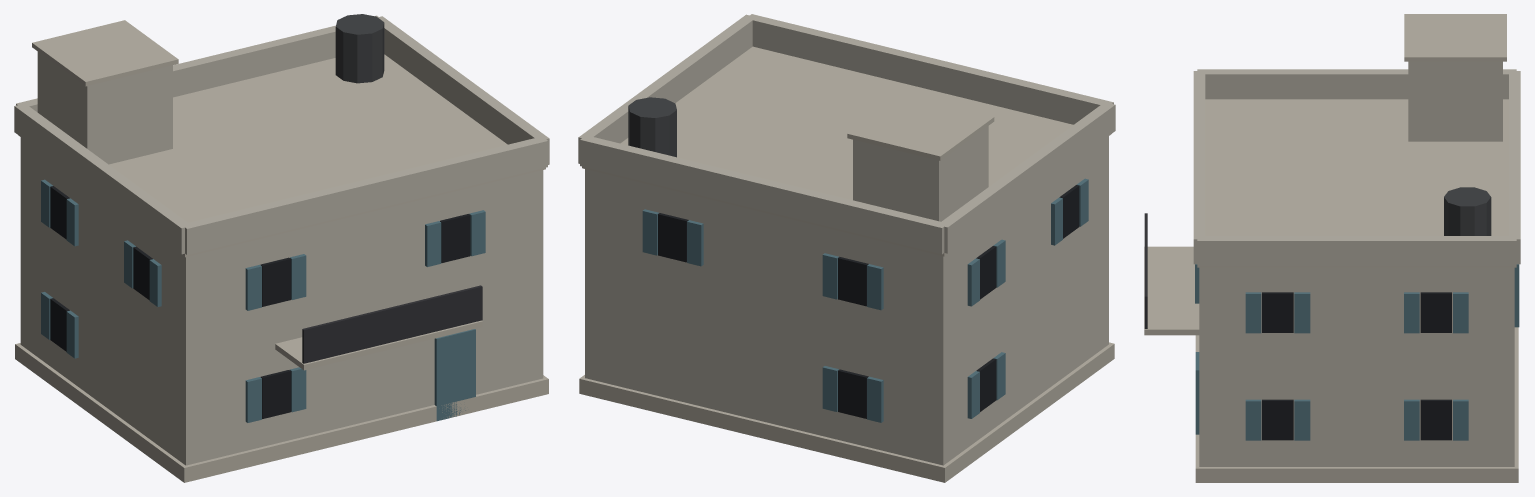
The model's file is a13_house_2.glb.
3 views of the same model, side by side, from view 1: azimuth 30°, elevation 25°; view 2: azimuth 150°, elevation 25°; view 3: azimuth 270°, elevation 25° (orthographic). The views are drawn at different scales.
Parts seen in each view (by area): view 1: body; view 2: body; view 3: body.
Boxes of the visible parts, x1=… form: body: x1=14, y1=14, x2=549, y2=482; body: x1=578, y1=14, x2=1115, y2=482; body: x1=1144, y1=14, x2=1520, y2=482.
Bounding box in the file's own units: 1 × 0.8262 × 0.9272.
